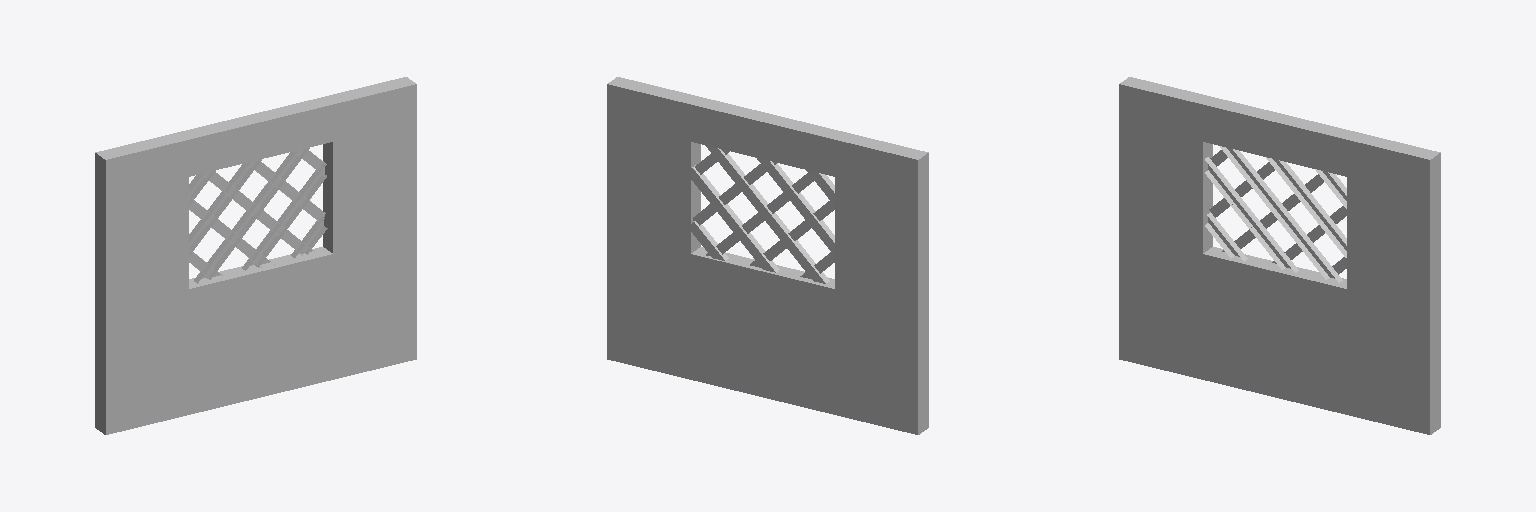
File: frontWallLP.obj
3 renders of one model, left to right at view 1: azimuth 30°, elevation 25°; view 2: azimuth 150°, elevation 25°; view 3: azimuth 330°, elevation 25°, orthographic.
Parts seen in each view (by area): view 1: pCube16, group29 SidePanels pCube176, group29 SidePanels pCube184, group29 SidePanels pCube178, group29 SidePanels pCube179, group29 SidePanels pCube181, pCube175 group29 SidePanels; view 2: pCube16, group29 SidePanels pCube176, group29 SidePanels pCube184, group29 SidePanels pCube178, group29 SidePanels pCube179, group29 SidePanels pCube181, pCube175 group29 SidePanels, group29 SidePanels pCube183; view 3: pCube16, group29 SidePanels pCube179, group29 SidePanels pCube181, pCube175 group29 SidePanels, group29 SidePanels pCube176, group29 SidePanels pCube182, group29 SidePanels pCube178.
Boxes of the visible parts, <box> form: pCube16: <box>95,77,416,434</box>; group29 SidePanels pCube176: <box>194,148,309,283</box>; group29 SidePanels pCube184: <box>242,161,326,270</box>; group29 SidePanels pCube178: <box>189,159,261,255</box>; group29 SidePanels pCube179: <box>203,171,314,255</box>; group29 SidePanels pCube181: <box>189,196,274,267</box>; pCube175 group29 SidePanels: <box>246,160,325,223</box>; pCube16: <box>607,77,928,434</box>; group29 SidePanels pCube176: <box>705,145,829,283</box>; group29 SidePanels pCube184: <box>691,165,779,272</box>; group29 SidePanels pCube178: <box>757,158,834,255</box>; group29 SidePanels pCube179: <box>706,173,813,255</box>; group29 SidePanels pCube181: <box>750,201,834,267</box>; pCube175 group29 SidePanels: <box>693,162,776,225</box>; group29 SidePanels pCube183: <box>691,221,728,260</box>; pCube16: <box>1119,77,1440,434</box>; group29 SidePanels pCube179: <box>1220,146,1342,282</box>; group29 SidePanels pCube181: <box>1205,157,1298,272</box>; pCube175 group29 SidePanels: <box>1266,157,1346,257</box>; group29 SidePanels pCube176: <box>1222,174,1323,251</box>; group29 SidePanels pCube182: <box>1205,212,1247,261</box>; group29 SidePanels pCube178: <box>1209,162,1274,217</box>.
Bounding box in the file's own units: 7.19 × 6.07 × 0.4116.